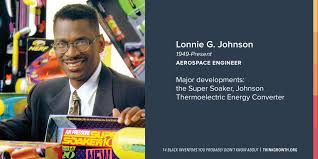black_male: (43, 12, 115, 80)
